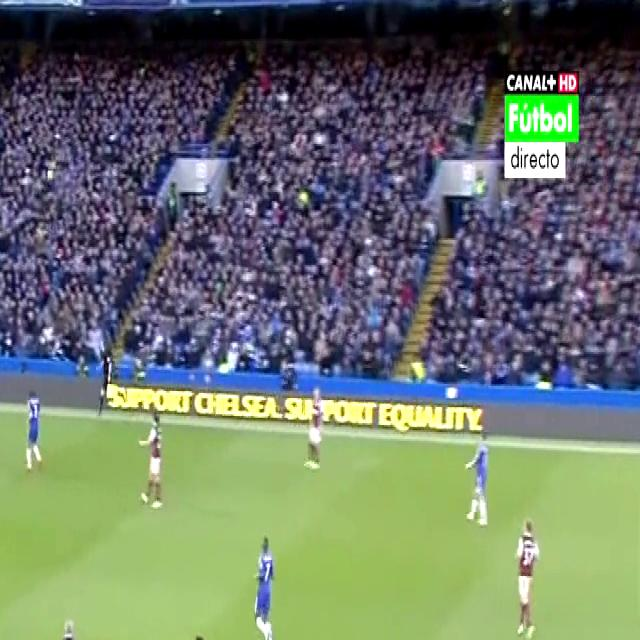referee: (88, 328, 122, 421), (45, 604, 87, 640)
soccer-player: (509, 512, 548, 640), (240, 524, 281, 640), (130, 400, 167, 515), (462, 425, 499, 536), (21, 378, 51, 478), (298, 390, 328, 482), (180, 618, 234, 640)
